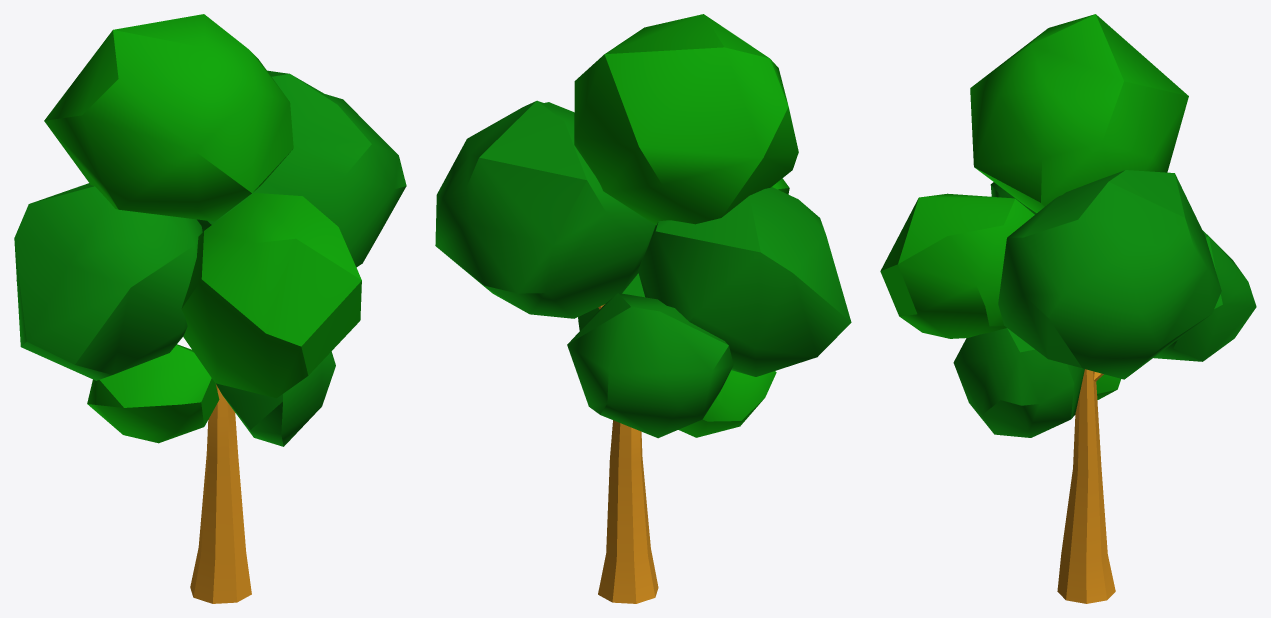
The model's file is M_Tree3.fbx.
3 renders of one model, left to right at view 1: azimuth 30°, elevation 25°; view 2: azimuth 150°, elevation 25°; view 3: azimuth 270°, elevation 25°, orthographic. The views are drawn at different scales.
Visible parts, largest first — view 1: M_Tree3; view 2: M_Tree3; view 3: M_Tree3.
Boxes of the visible parts, x1,y1,x2,y2 form: M_Tree3: (14, 14, 406, 603); M_Tree3: (435, 14, 851, 603); M_Tree3: (880, 14, 1256, 603).
Bounding box in the file's own units: 2.92 × 4.28 × 2.75.
